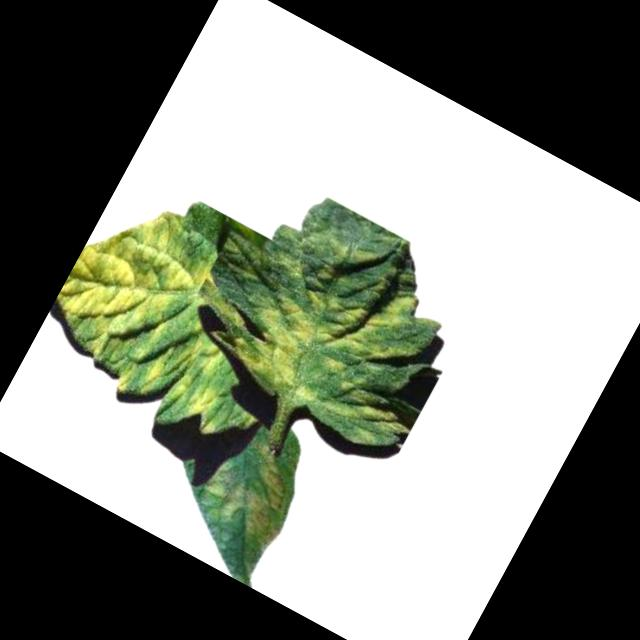Leaf_Mold: (33, 182, 288, 433), (224, 214, 474, 456), (192, 429, 313, 552)
